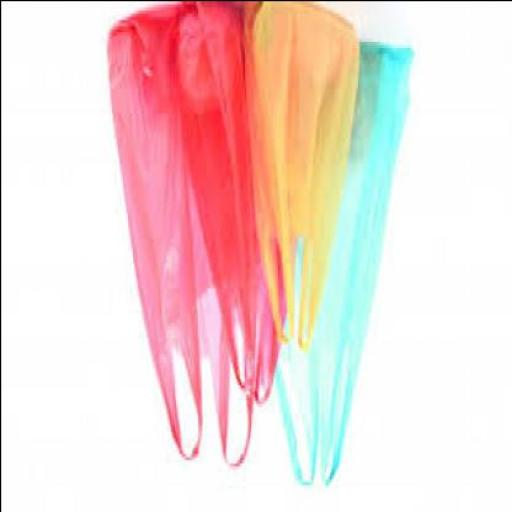plastic: (110, 4, 254, 471), (275, 47, 415, 487), (175, 3, 290, 406), (252, 3, 364, 350)
